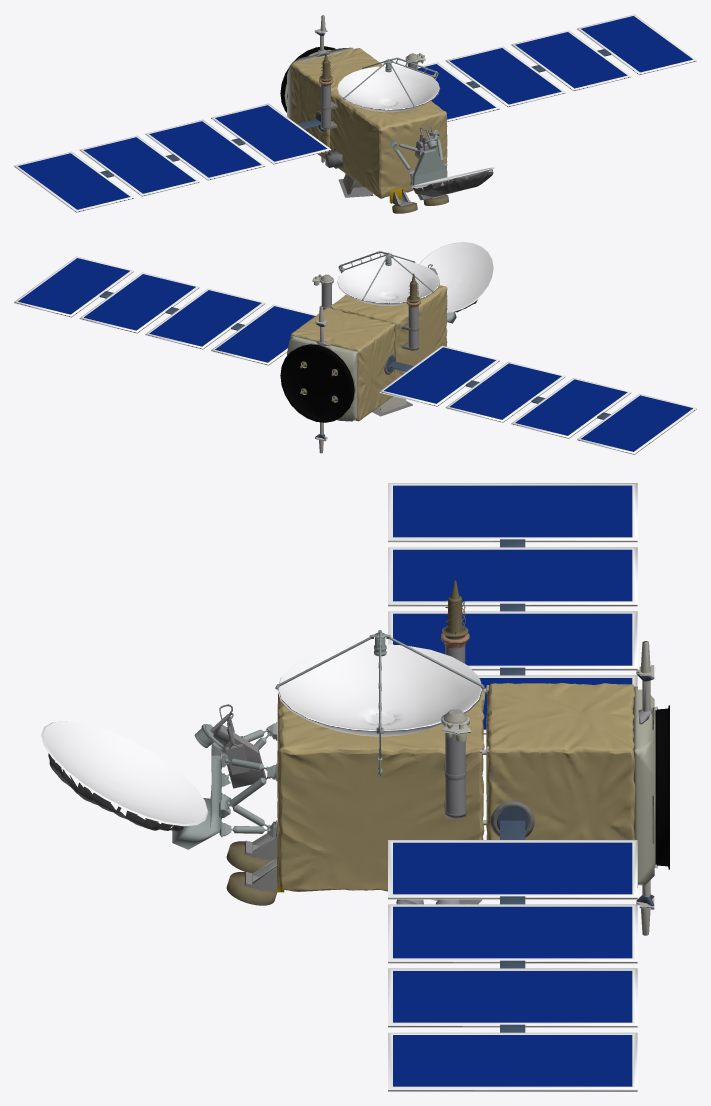
Rendered from weixin.glb.
3 views of the same model, one above another, from view 1: azimuth 30°, elevation 25°; view 2: azimuth 150°, elevation 25°; view 3: azimuth 270°, elevation 25° (orthographic). The views are drawn at different scales.
Visible parts, largest first — view 1: OSTM_Jason2_Layered_016__Layer31_, OSTM_Jason2_Layered_016___unnamed__, OSTM_Jason2_Layered_016__Layer33_, OSTM_Jason2_Layered_016__Layer10_, OSTM_Jason2_Layered_016__Layer11_, OSTM_Jason2_Layered_016__Layer36_, OSTM_Jason2_Layered_016__Layer34_, OSTM_Jason2_Layered_016__Layer8_, OSTM_Jason2_Layered_016__Layer13_, OSTM_Jason2_Layered_016__Layer25_, OSTM_Jason2_Layered_016__Layer9_; view 2: OSTM_Jason2_Layered_016__Layer31_, OSTM_Jason2_Layered_016___unnamed__, OSTM_Jason2_Layered_016__Layer10_, OSTM_Jason2_Layered_016__Layer33_, OSTM_Jason2_Layered_016__Layer9_, OSTM_Jason2_Layered_016__Layer8_, OSTM_Jason2_Layered_016__Layer11_, OSTM_Jason2_Layered_016__Layer13_, OSTM_Jason2_Layered_016__Layer34_; view 3: OSTM_Jason2_Layered_016__Layer31_, OSTM_Jason2_Layered_016___unnamed__, OSTM_Jason2_Layered_016__Layer10_, OSTM_Jason2_Layered_016__Layer33_, OSTM_Jason2_Layered_016__Layer11_, OSTM_Jason2_Layered_016__Layer8_, OSTM_Jason2_Layered_016__Layer9_, OSTM_Jason2_Layered_016__Layer34_, OSTM_Jason2_Layered_016__Layer13_, OSTM_Jason2_Layered_016__Layer25_, OSTM_Jason2_Layered_016__Layer2_, OSTM_Jason2_Layered_016__Layer26_ (+3 smaller).
Boxes of the visible parts, x1,y1,x2,y2 form: OSTM_Jason2_Layered_016__Layer31_: (18, 16, 692, 209); OSTM_Jason2_Layered_016___unnamed__: (291, 48, 447, 198); OSTM_Jason2_Layered_016__Layer33_: (14, 14, 696, 212); OSTM_Jason2_Layered_016__Layer10_: (337, 66, 493, 188); OSTM_Jason2_Layered_016__Layer11_: (343, 57, 455, 200); OSTM_Jason2_Layered_016__Layer36_: (413, 170, 493, 196); OSTM_Jason2_Layered_016__Layer34_: (100, 49, 611, 177); OSTM_Jason2_Layered_016__Layer8_: (284, 47, 356, 119); OSTM_Jason2_Layered_016__Layer13_: (321, 64, 417, 127); OSTM_Jason2_Layered_016__Layer25_: (392, 194, 448, 213); OSTM_Jason2_Layered_016__Layer9_: (280, 46, 335, 112); OSTM_Jason2_Layered_016__Layer31_: (18, 258, 692, 451); OSTM_Jason2_Layered_016___unnamed__: (290, 285, 447, 421); OSTM_Jason2_Layered_016__Layer10_: (337, 242, 494, 312); OSTM_Jason2_Layered_016__Layer33_: (14, 256, 696, 454); OSTM_Jason2_Layered_016__Layer9_: (280, 344, 354, 422); OSTM_Jason2_Layered_016__Layer8_: (287, 335, 357, 421); OSTM_Jason2_Layered_016__Layer11_: (338, 251, 456, 323); OSTM_Jason2_Layered_016__Layer13_: (321, 285, 418, 348); OSTM_Jason2_Layered_016__Layer34_: (99, 291, 610, 419); OSTM_Jason2_Layered_016__Layer31_: (393, 485, 632, 1086); OSTM_Jason2_Layered_016___unnamed__: (277, 683, 635, 891); OSTM_Jason2_Layered_016__Layer10_: (41, 644, 482, 826); OSTM_Jason2_Layered_016__Layer33_: (388, 483, 637, 1091); OSTM_Jason2_Layered_016__Layer11_: (172, 630, 484, 849); OSTM_Jason2_Layered_016__Layer8_: (632, 686, 655, 887); OSTM_Jason2_Layered_016__Layer9_: (655, 705, 669, 869); OSTM_Jason2_Layered_016__Layer34_: (497, 539, 528, 1032); OSTM_Jason2_Layered_016__Layer13_: (445, 646, 465, 814); OSTM_Jason2_Layered_016__Layer25_: (226, 841, 277, 905); OSTM_Jason2_Layered_016__Layer2_: (213, 725, 265, 788); OSTM_Jason2_Layered_016__Layer26_: (244, 833, 277, 890).
Bounding box in the file's own units: 2249 × 537 × 987.
